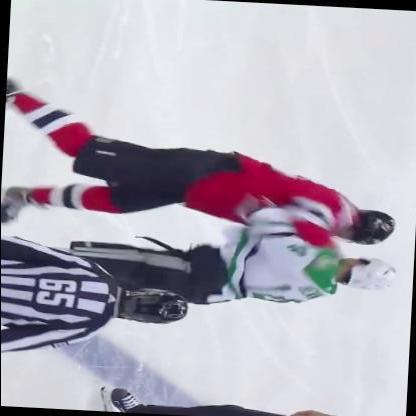voilence: (67, 140, 406, 316)
